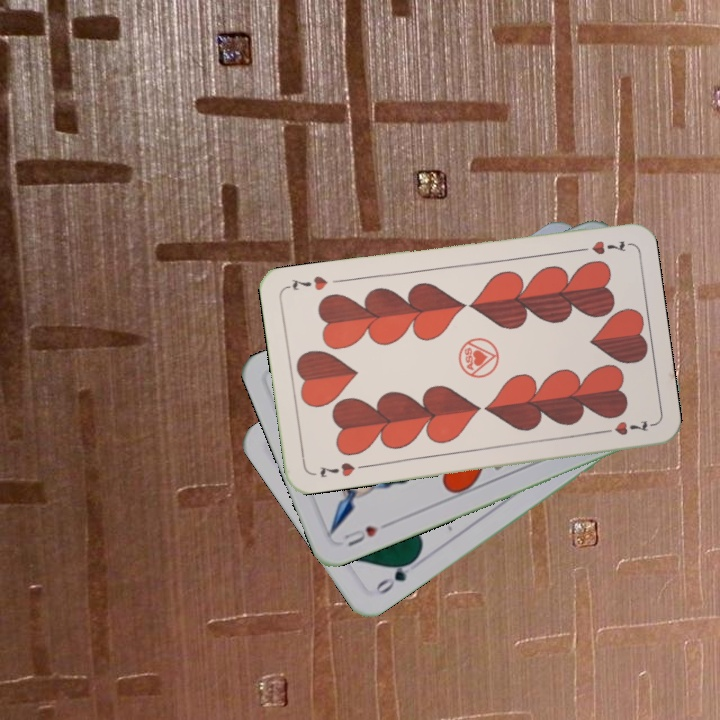GO: (372, 554, 419, 598)
H7: (571, 236, 628, 258), (315, 458, 368, 480)
HU: (340, 518, 392, 549)
